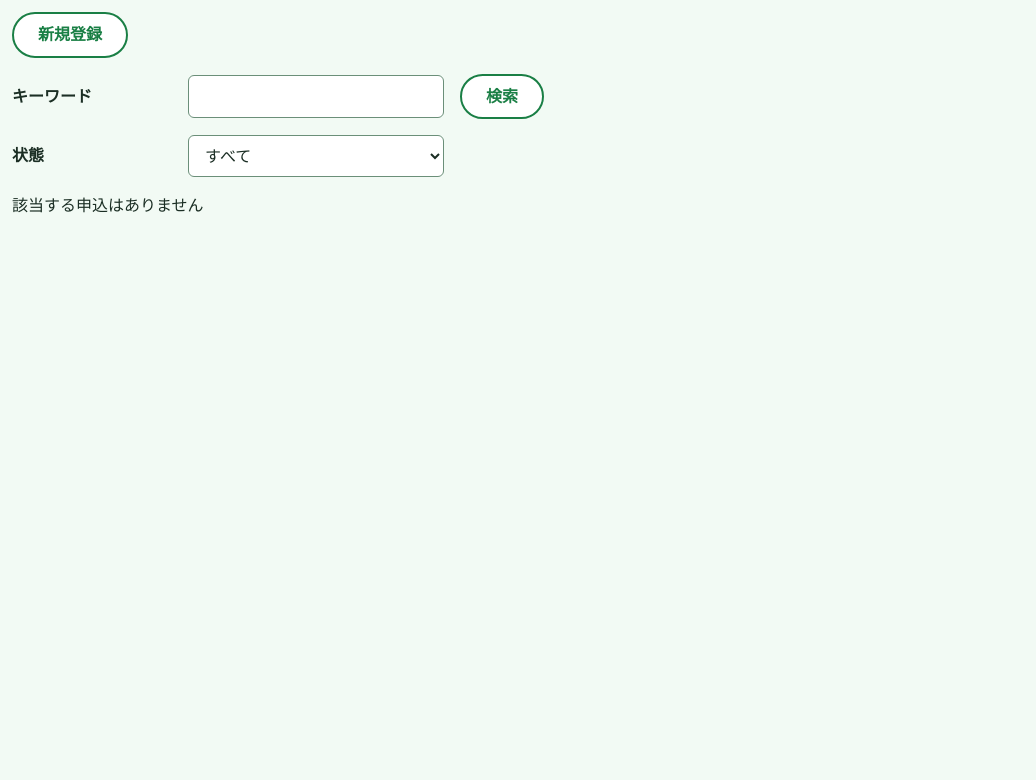
Test: 登録のフォームから、登録せずに一覧に戻れる
Click the button "新規登録" at x=70, y=35, box [12,12,128,58]
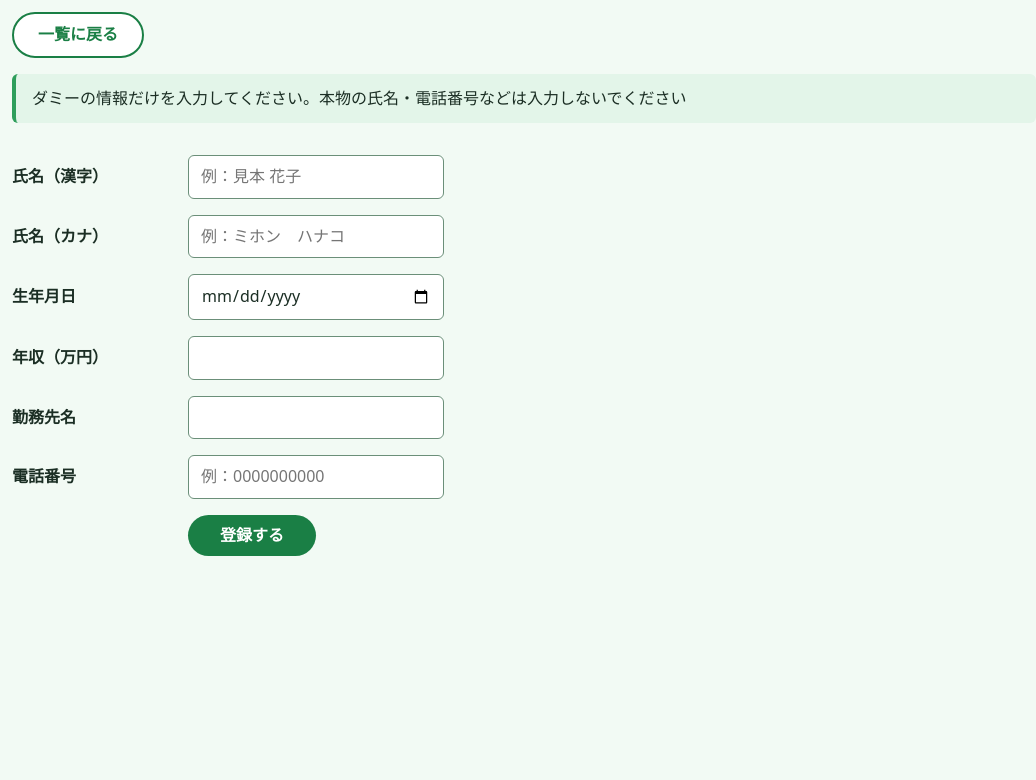
Click the button "一覧に戻る" at x=78, y=35, box [12,12,144,58]
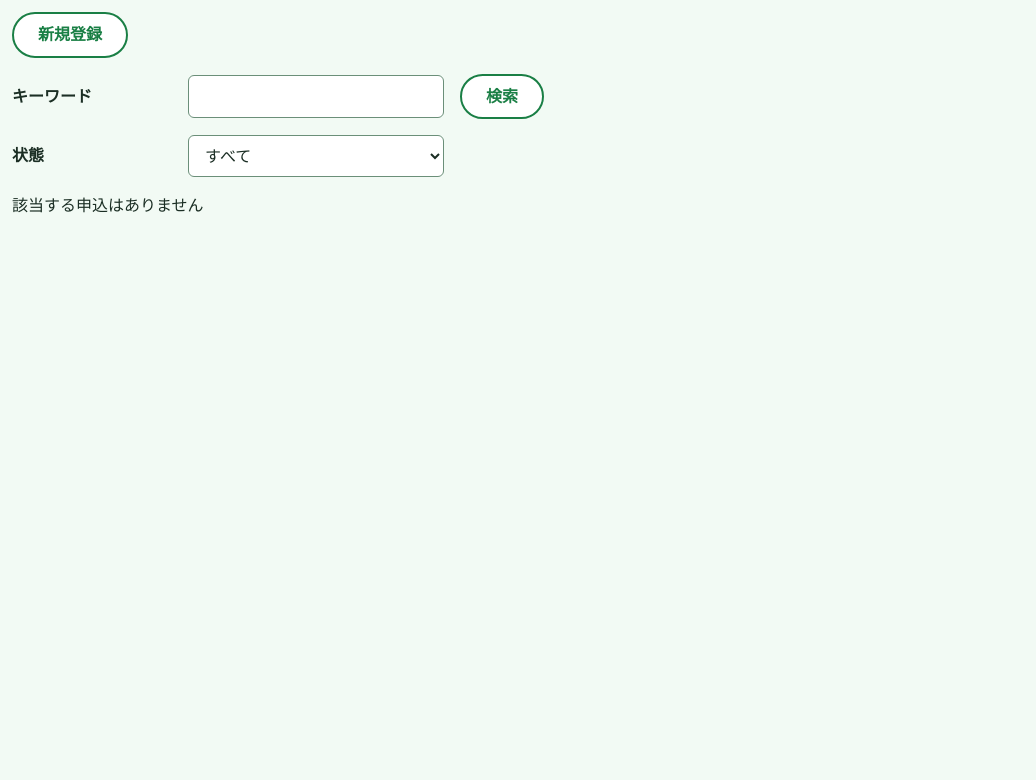
expect the dropdown labelled "状態" is shown: met, box [188,135,444,177]
